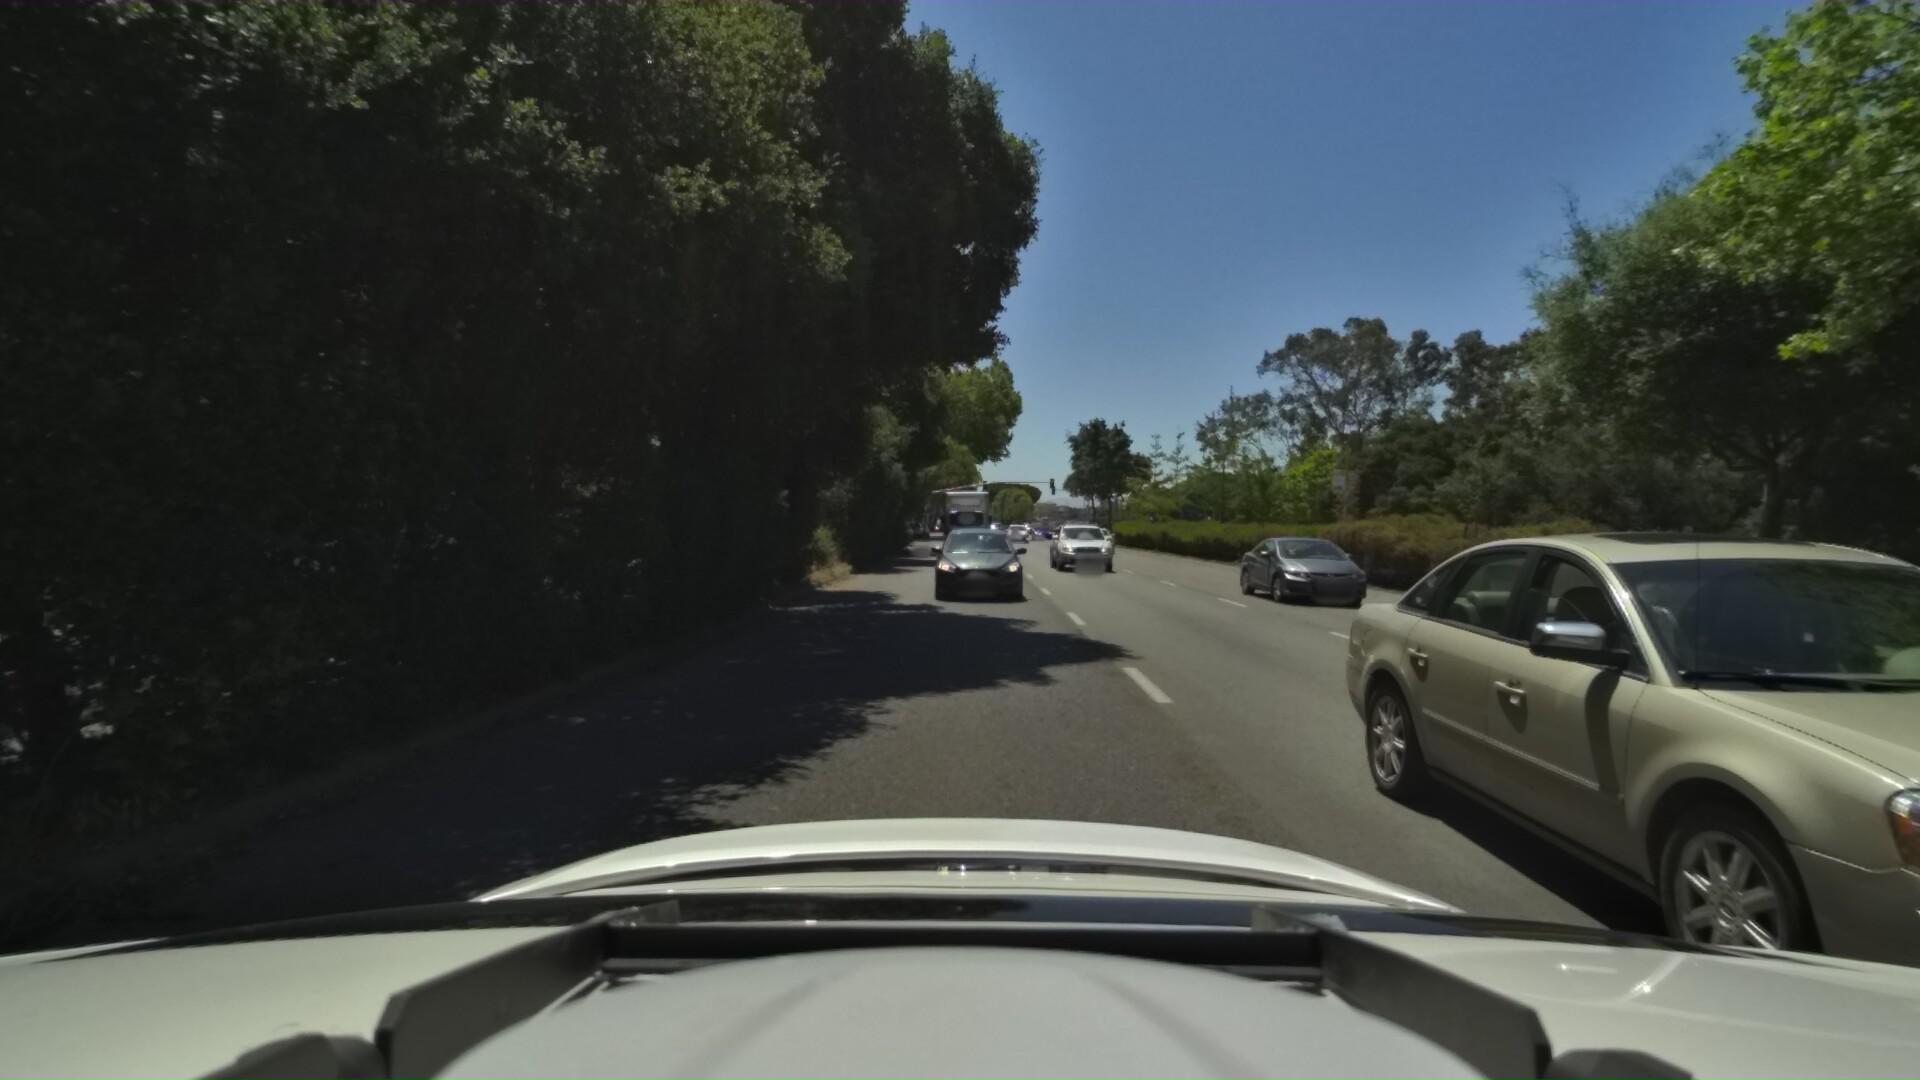car: (1251, 483, 1920, 1029), (1216, 527, 1349, 603), (928, 524, 1025, 607), (1040, 516, 1108, 568), (1083, 520, 1127, 549), (1001, 522, 1029, 545)
truck: (938, 476, 994, 543)
